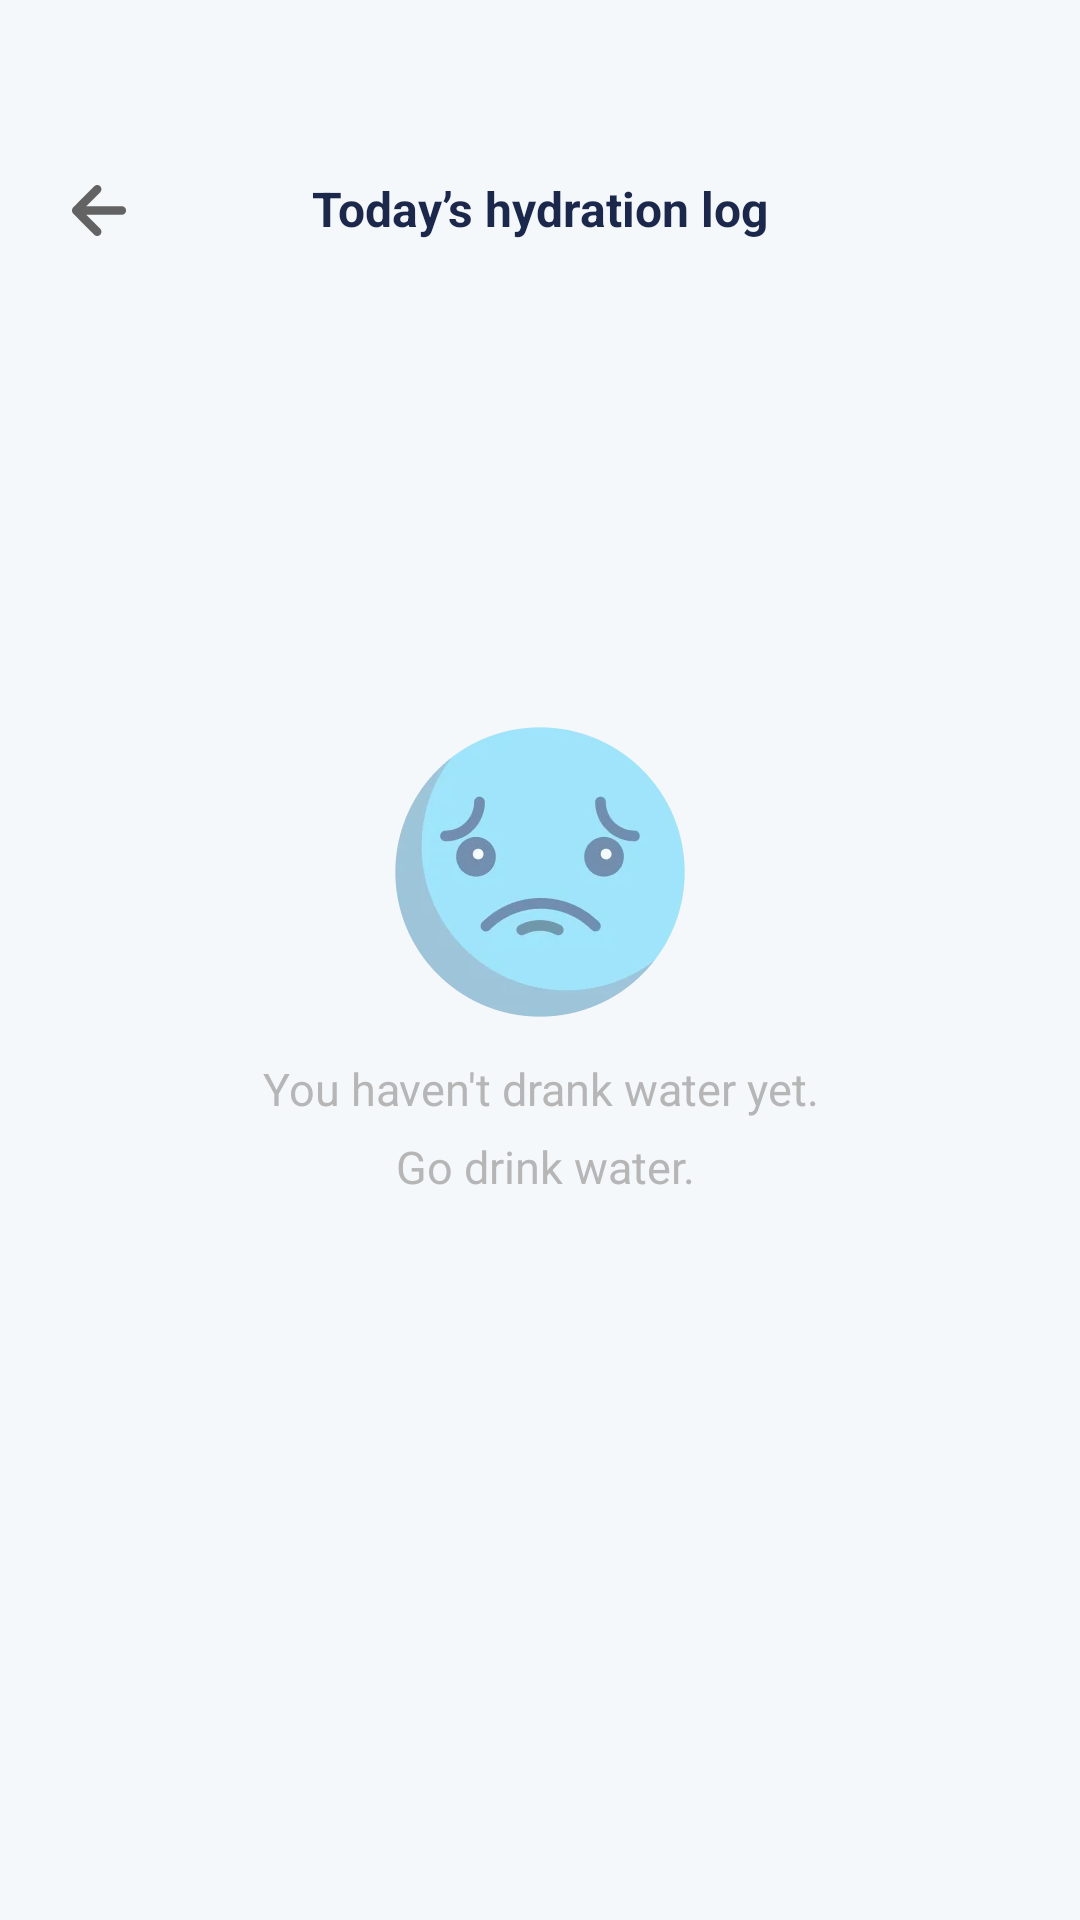

Where to tap for icons on this 1080w x 1920h app screen, as [x,y]:
back: [99,210]
